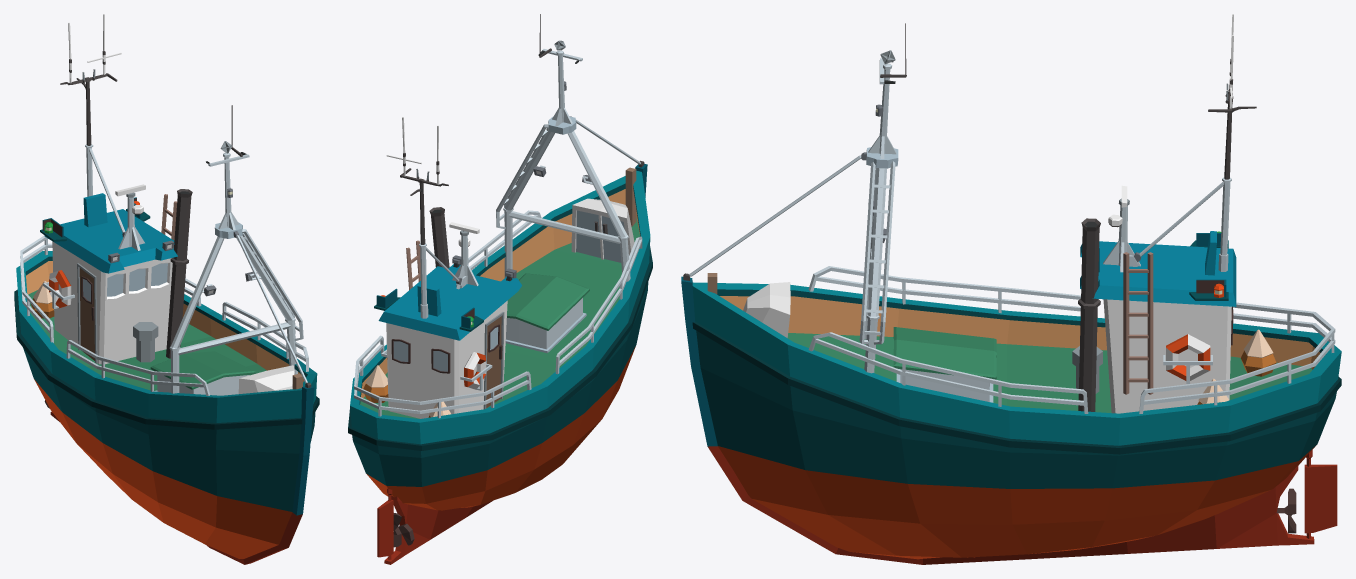
Rendered from Lopo_Boat.fbx.
The picture shows the model from 3 angles, left to right: view 1: azimuth 30°, elevation 25°; view 2: azimuth 150°, elevation 25°; view 3: azimuth 270°, elevation 25°; orthographic projection. The views are drawn at different scales.
Visible parts, largest first — view 1: FB Medium Hull, FB M1 Cabin, FishHole, Exhaust, MastLadder, Lifetorus, Marking Lights.001, BumpBuoy.001, Ladder; view 2: FB Medium Hull, FB M1 Cabin, FishHole, Rudder, Exhaust, MastLadder, Marking Lights.001, BumpBuoy, Lifetorus, Propeller, Ladder; view 3: FB Medium Hull, FB M1 Cabin, FishHole, Exhaust, Ladder, MastLadder, Rudder, Lifetorus, Marking Lights.001, BumpBuoy.001.
Part boxes in pixels (<box>): FB Medium Hull: <box>14,105,319,564</box>; FB M1 Cabin: <box>43,14,177,364</box>; FishHole: <box>150,351,256,395</box>; Exhaust: <box>166,189,192,358</box>; MastLadder: <box>242,229,303,340</box>; Lifetorus: <box>49,270,71,308</box>; Marking Lights.001: <box>40,197,150,241</box>; BumpBuoy.001: <box>31,281,54,318</box>; Ladder: <box>161,194,177,240</box>; FB Medium Hull: <box>348,14,652,564</box>; FB M1 Cabin: <box>378,117,521,418</box>; FishHole: <box>505,273,589,353</box>; Rudder: <box>377,488,393,559</box>; Exhaust: <box>429,207,449,268</box>; MastLadder: <box>496,124,548,229</box>; Marking Lights.001: <box>374,288,483,331</box>; BumpBuoy: <box>363,365,388,402</box>; Lifetorus: <box>387,352,486,389</box>; Propeller: <box>393,513,414,547</box>; Ladder: <box>406,240,420,289</box>; FB Medium Hull: <box>681,23,1341,564</box>; FB M1 Cabin: <box>1080,14,1256,413</box>; FishHole: <box>893,327,996,402</box>; Exhaust: <box>1078,218,1100,411</box>; Ladder: <box>1123,252,1153,394</box>; MastLadder: <box>859,161,895,344</box>; Rudder: <box>1304,450,1337,538</box>; Lifetorus: <box>1166,334,1210,380</box>; Marking Lights.001: <box>1189,231,1228,300</box>; BumpBuoy.001: <box>1240,329,1276,376</box>.
Size of the model in its own units: 229 by 567 by 621.
